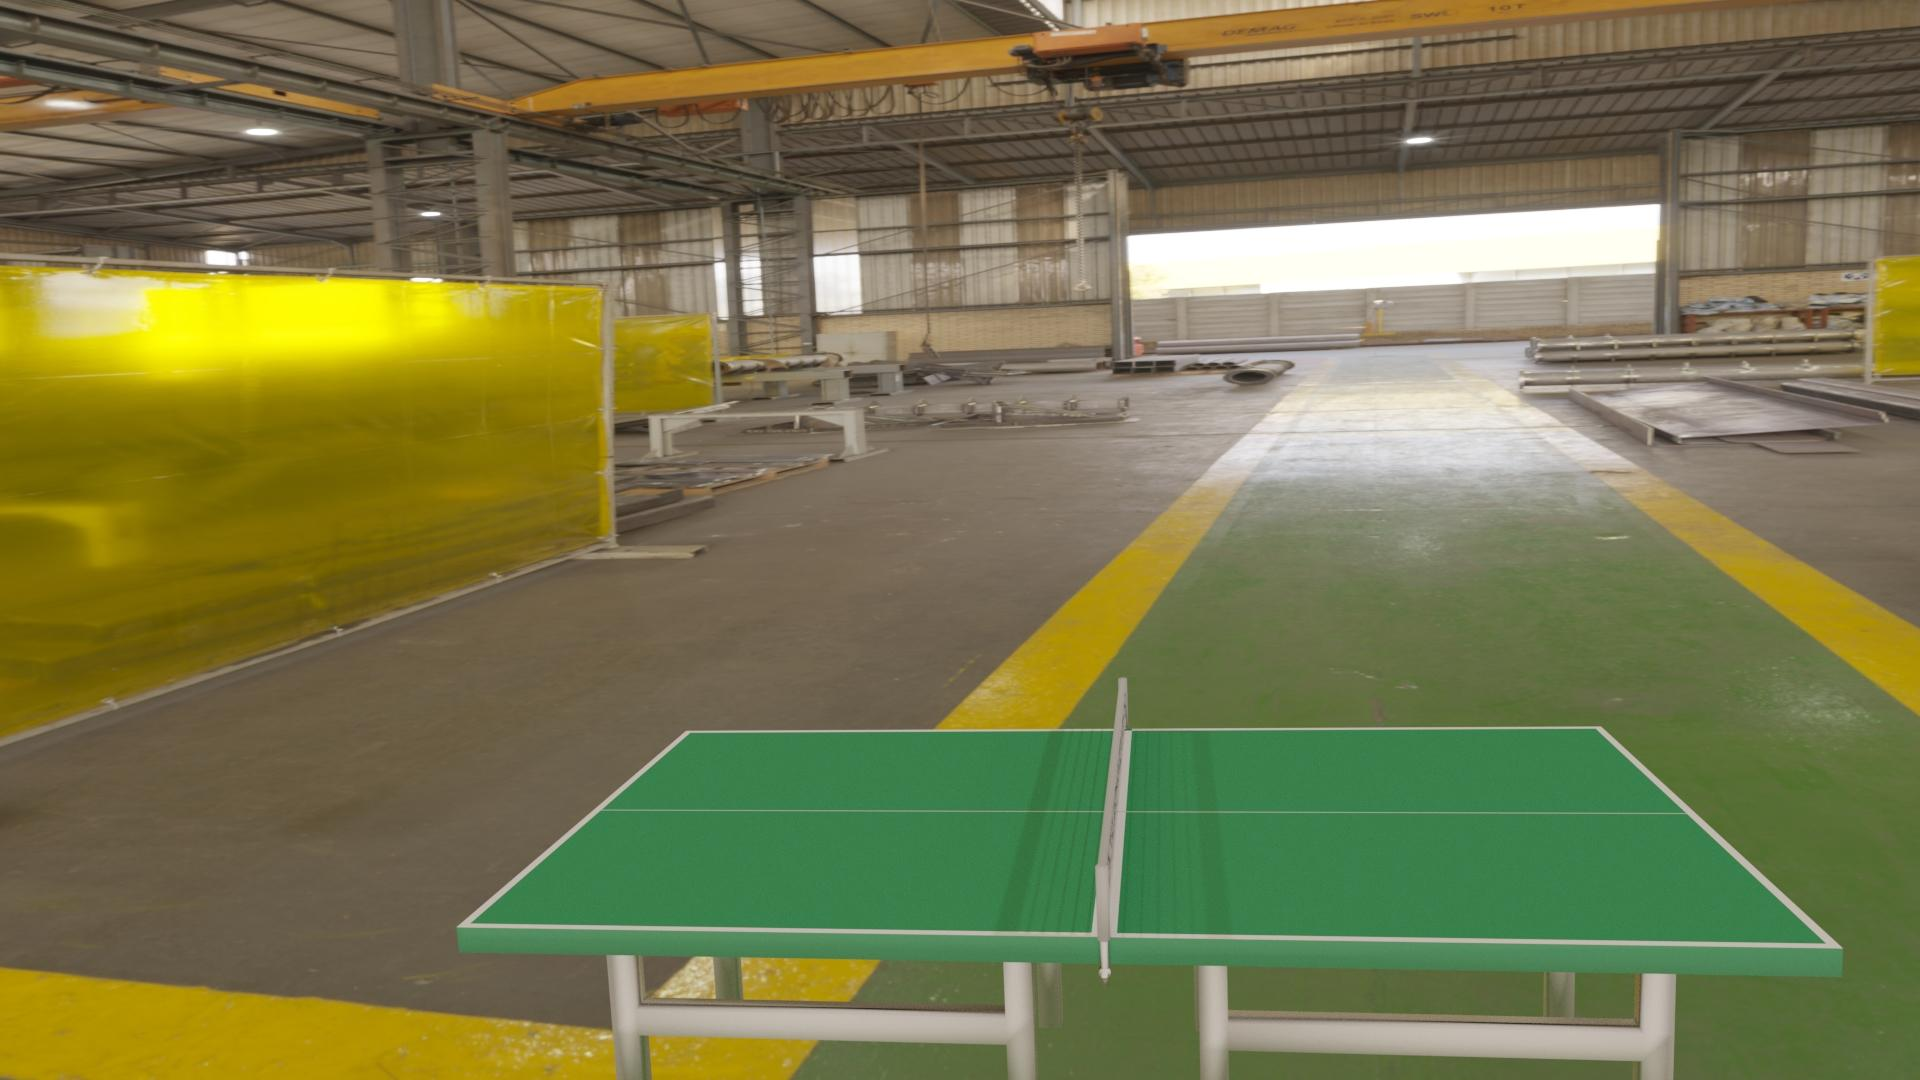table: (469, 728, 1826, 944)
